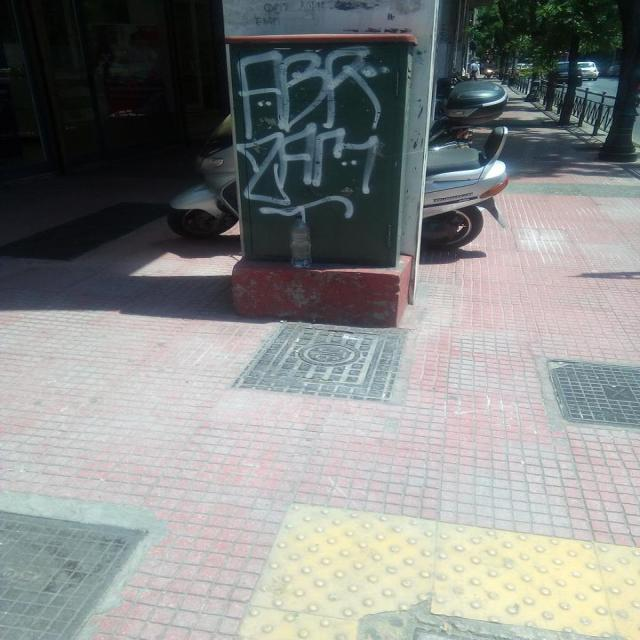nonspitting: (236, 47, 392, 218)
